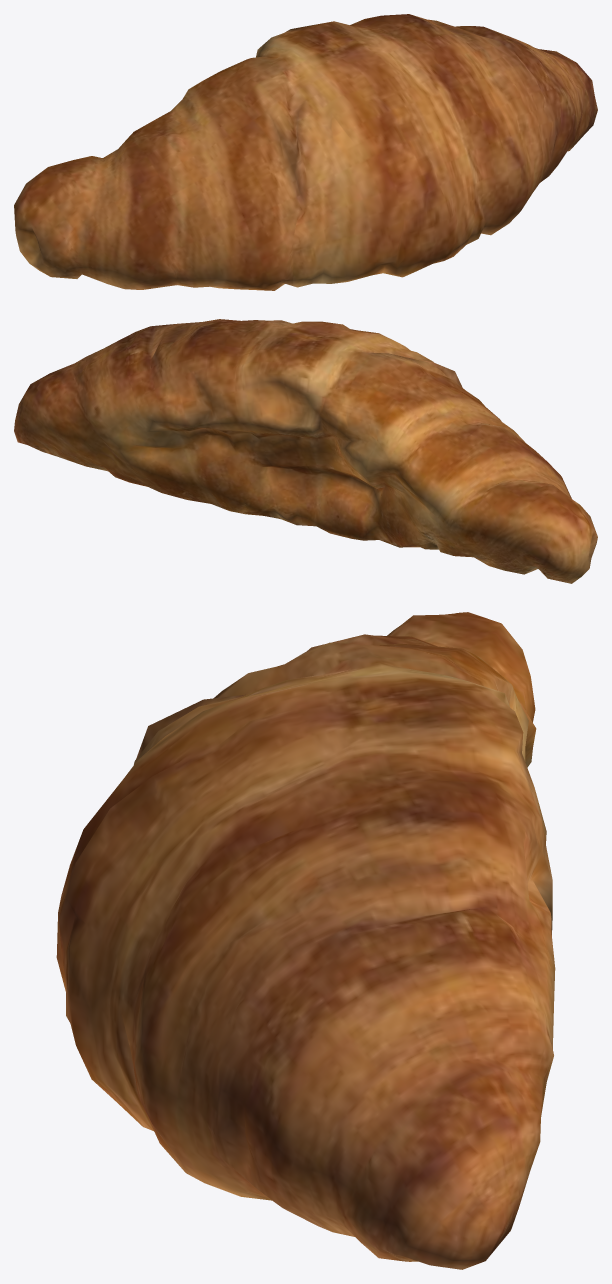
Rendered from croissant.glb.
3 renders of one model, top to bottom at view 1: azimuth 30°, elevation 25°; view 2: azimuth 150°, elevation 25°; view 3: azimuth 270°, elevation 25°, orthographic. The views are drawn at different scales.
Visible parts, largest first — view 1: croissant; view 2: croissant; view 3: croissant.
Boxes of the visible parts, x1,y1,x2,y2 form: croissant: (14,14,597,290); croissant: (14,319,597,583); croissant: (56,612,555,1269).
Bounding box in the file's own units: 0.2 × 0.062 × 0.0755.
1 material, 1 textured.
